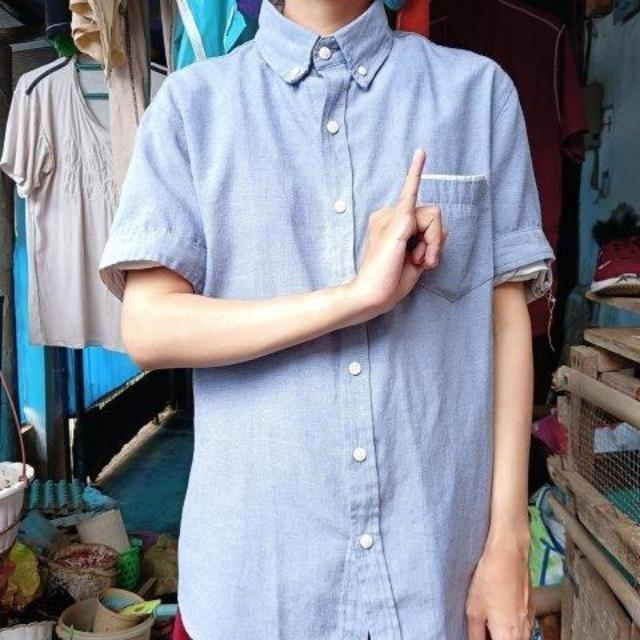I: (349, 143, 451, 322)
